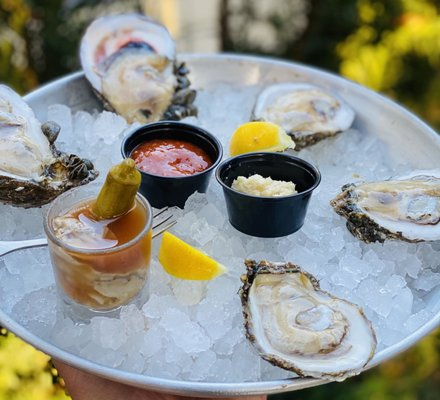sushi: (215, 150, 322, 239), (119, 119, 223, 210), (250, 82, 349, 154)
